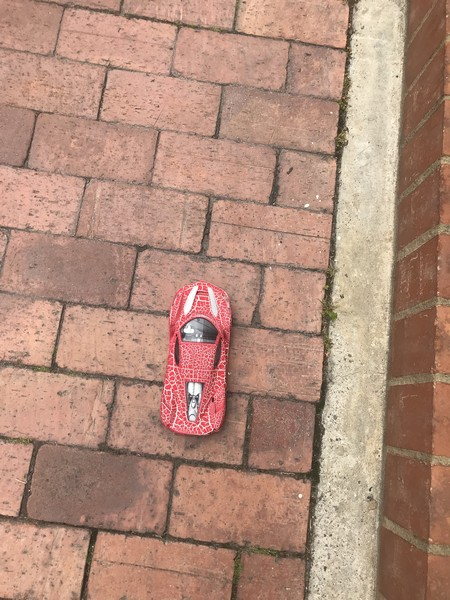RC: (156, 276, 234, 436)
